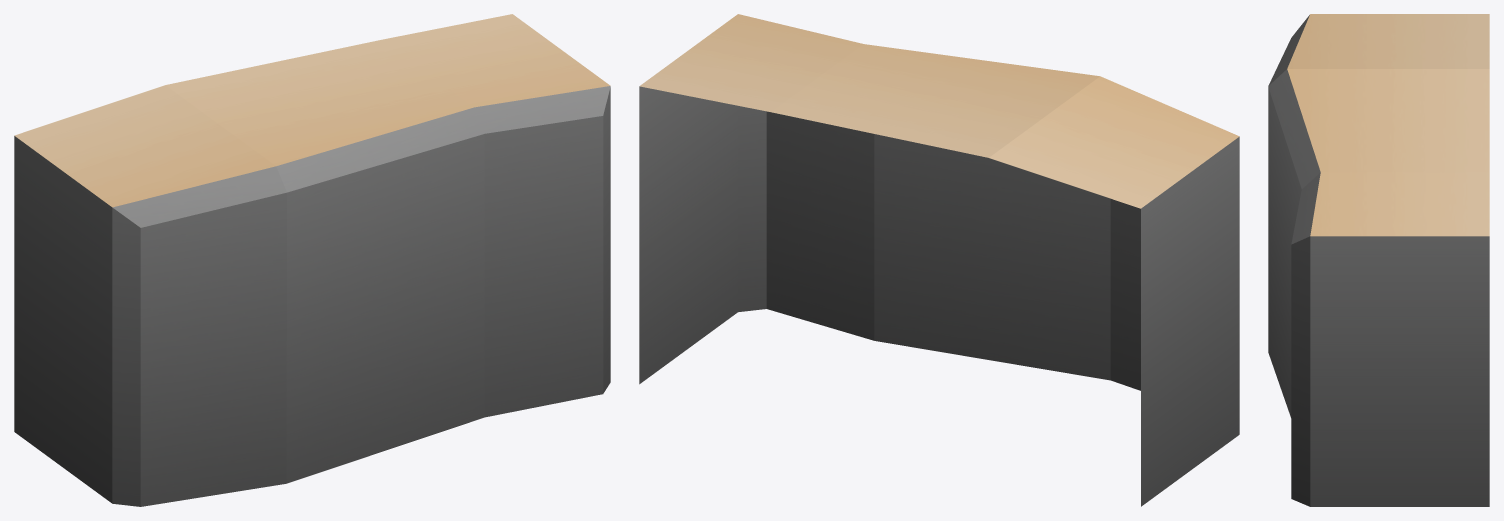
File: Lake Rock 2.fbx
The picture shows the model from 3 angles, left to right: view 1: azimuth 30°, elevation 25°; view 2: azimuth 150°, elevation 25°; view 3: azimuth 270°, elevation 25°; orthographic projection. The views are drawn at different scales.
Visible parts, largest first — view 1: polySurface112; view 2: polySurface112; view 3: polySurface112.
Part boxes in pixels (box(x1,y1,x2,y2)): polySurface112: box(14, 14, 610, 506); polySurface112: box(639, 14, 1239, 506); polySurface112: box(1268, 14, 1489, 506).
Size of the model in its own units: 26.5 by 15.74 by 11.17.
1 material, 1 textured.
